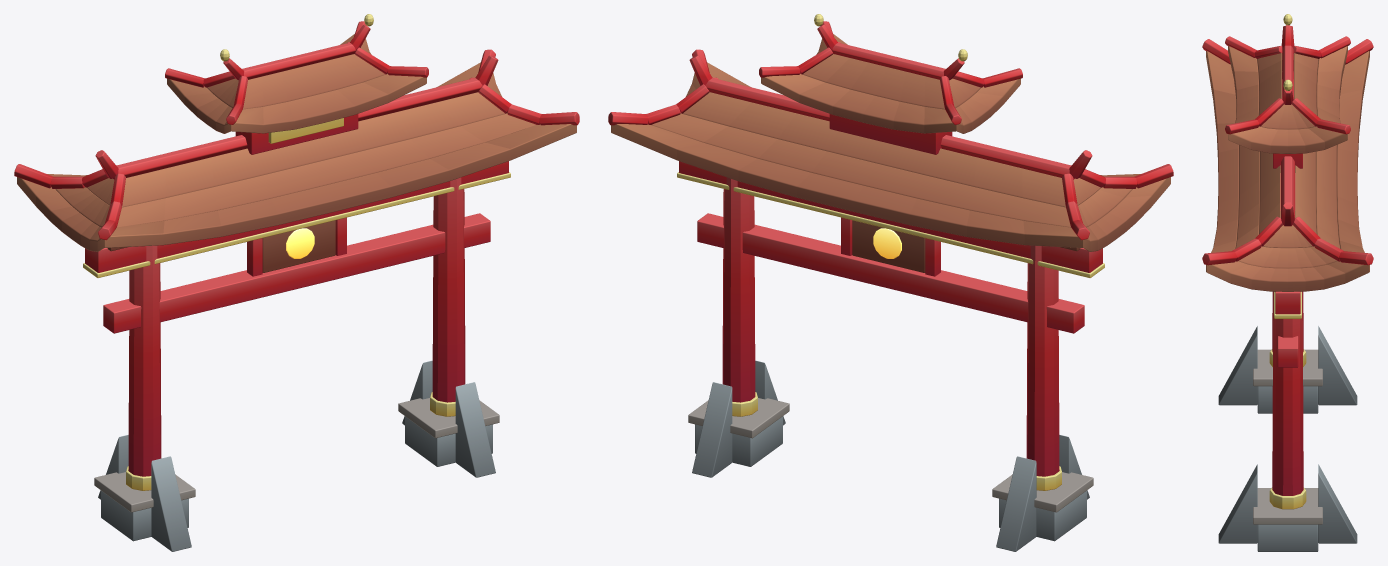
The model's file is monastery_gate.glb.
3 views of the same model, side by side, from view 1: azimuth 30°, elevation 25°; view 2: azimuth 150°, elevation 25°; view 3: azimuth 270°, elevation 25° (orthographic). The views are drawn at different scales.
Parts seen in each view (by area): view 1: monastery_gate; view 2: monastery_gate; view 3: monastery_gate.
Boxes of the visible parts, box(x1,y1,x2,y2) form: monastery_gate: box(14, 14, 579, 551); monastery_gate: box(608, 14, 1173, 551); monastery_gate: box(1202, 14, 1373, 551).
Size of the model in its own units: 8.55 by 7.7 by 2.83.
2 materials, 2 textured.
